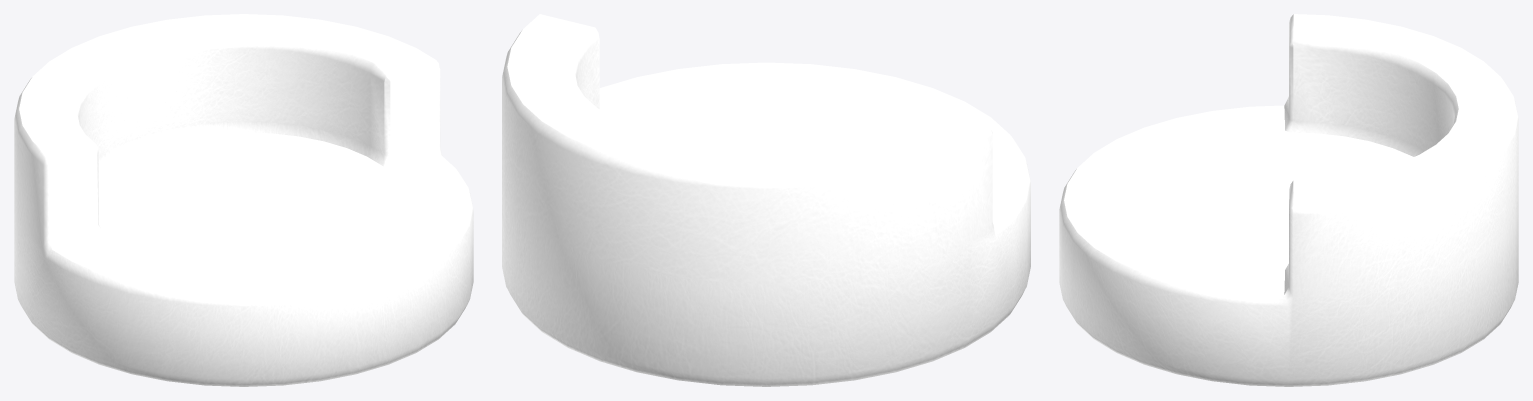
Rendered from RoundSofa.glb.
The picture shows the model from 3 angles, left to right: view 1: azimuth 30°, elevation 25°; view 2: azimuth 150°, elevation 25°; view 3: azimuth 270°, elevation 25°; orthographic projection. The views are drawn at different scales.
Parts seen in each view (by area): view 1: RoundSofa; view 2: RoundSofa; view 3: RoundSofa.
Boxes of the visible parts, <box> form: RoundSofa: <box>14,14,473,386</box>; RoundSofa: <box>502,14,1030,386</box>; RoundSofa: <box>1059,14,1518,386</box>.
Bounding box in the file's own units: 2.27 × 0.9968 × 2.27.
Materials: 1 (1 with a texture image).
